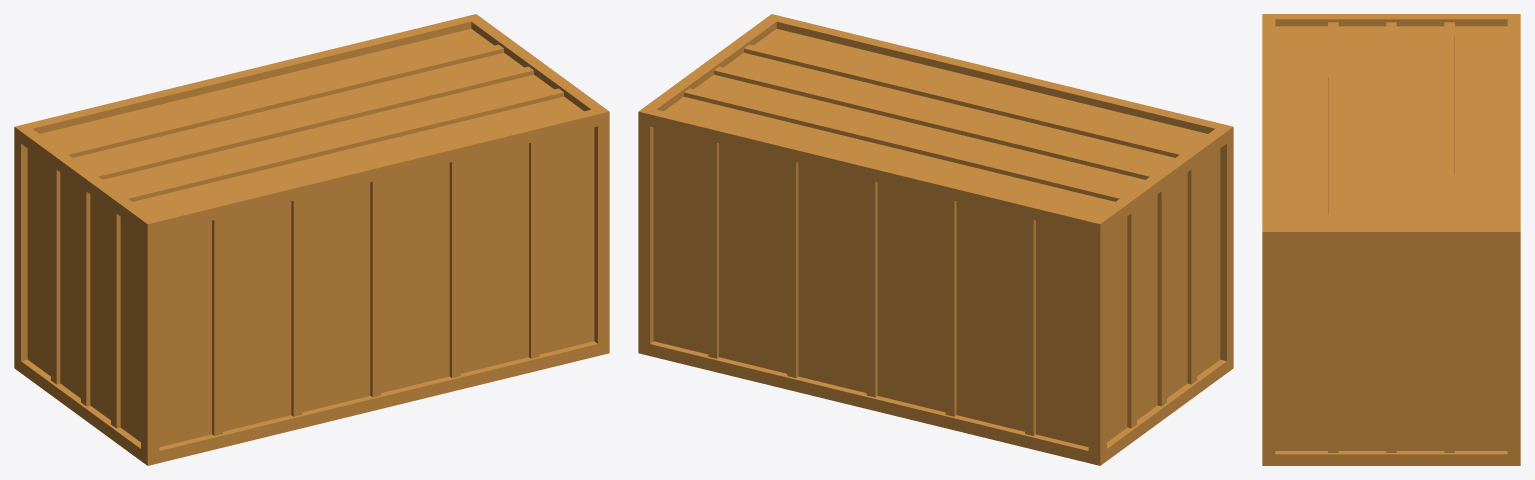
Rendered from Container_3.fbx.
3 renders of one model, left to right at view 1: azimuth 30°, elevation 25°; view 2: azimuth 150°, elevation 25°; view 3: azimuth 270°, elevation 25°, orthographic. The views are drawn at different scales.
Visible parts, largest first — view 1: Container_3; view 2: Container_3; view 3: Container_3.
Boxes of the visible parts, x1,y1,x2,y2 form: Container_3: (14, 14, 609, 465); Container_3: (638, 14, 1233, 465); Container_3: (1262, 14, 1520, 465).
Bounding box in the file's own units: 369 × 185 × 185.
